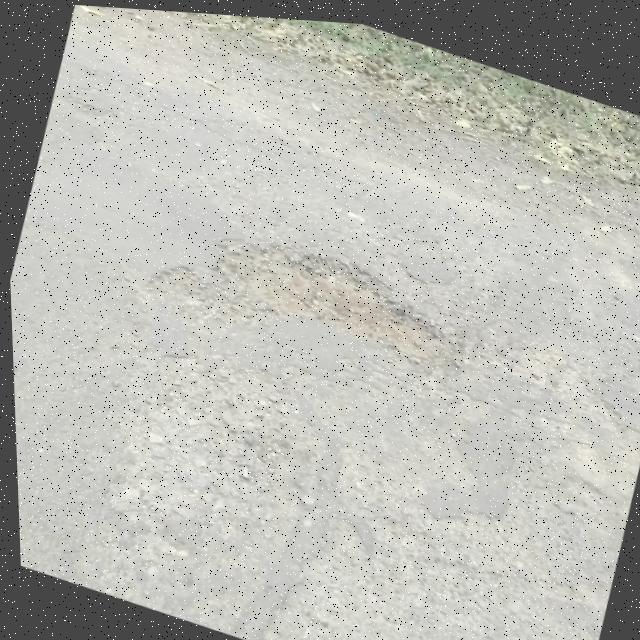pothole: (133, 184, 476, 396)
